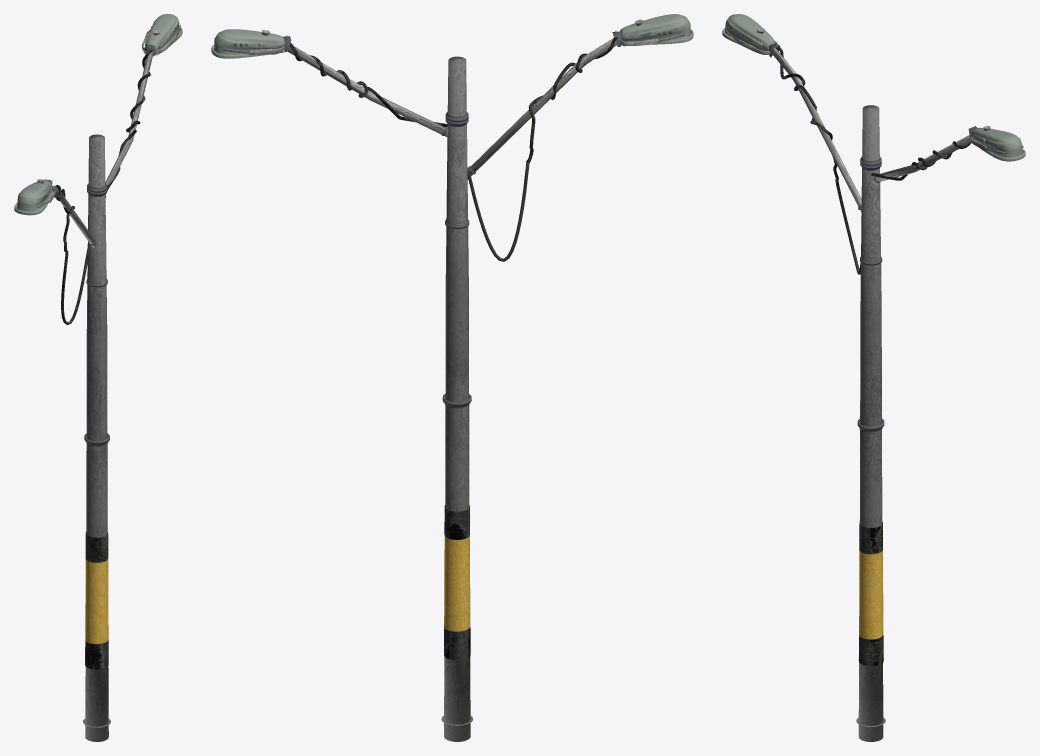
File: lamp.glb
The picture shows the model from 3 angles, left to right: view 1: azimuth 30°, elevation 25°; view 2: azimuth 150°, elevation 25°; view 3: azimuth 270°, elevation 25°; orthographic projection. The views are drawn at different scales.
Parts seen in each view (by area): view 1: Object_2; view 2: Object_2; view 3: Object_2.
Boxes of the visible parts, <box> form: Object_2: <box>14,14,182,741</box>; Object_2: <box>211,14,693,741</box>; Object_2: <box>722,14,1025,741</box>.
Size of the model in its own units: 2.07 by 4.29 by 1.76.
Materials: 1 (1 with a texture image).
